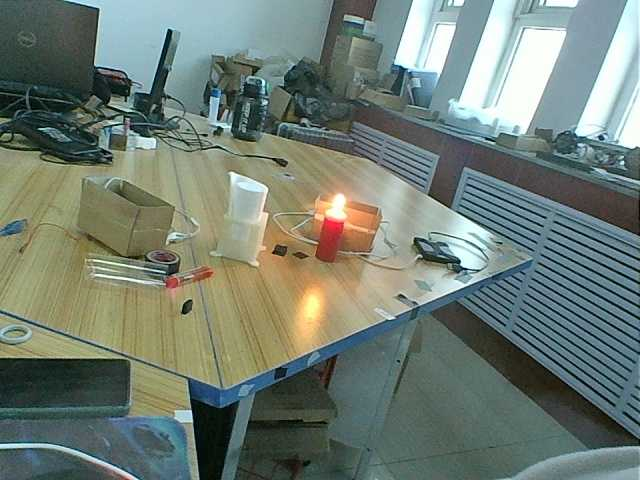candle: (315, 213, 349, 268)
fire: (328, 190, 352, 215)
